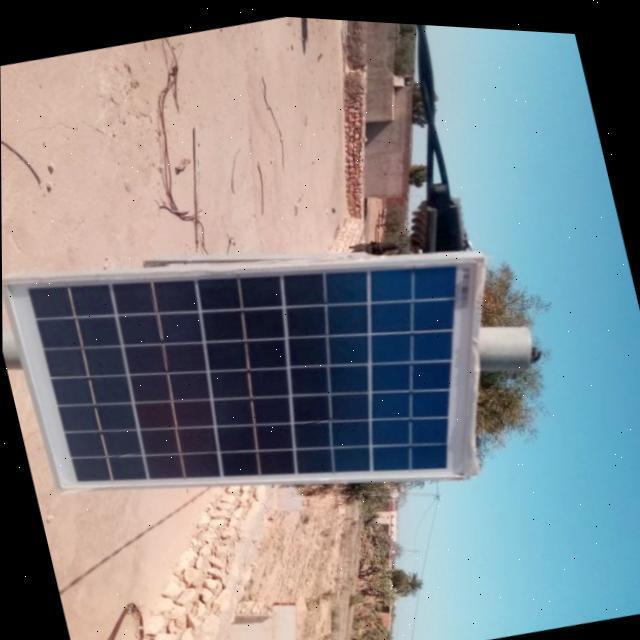Normal Solar Panel: (1, 171, 528, 569)
